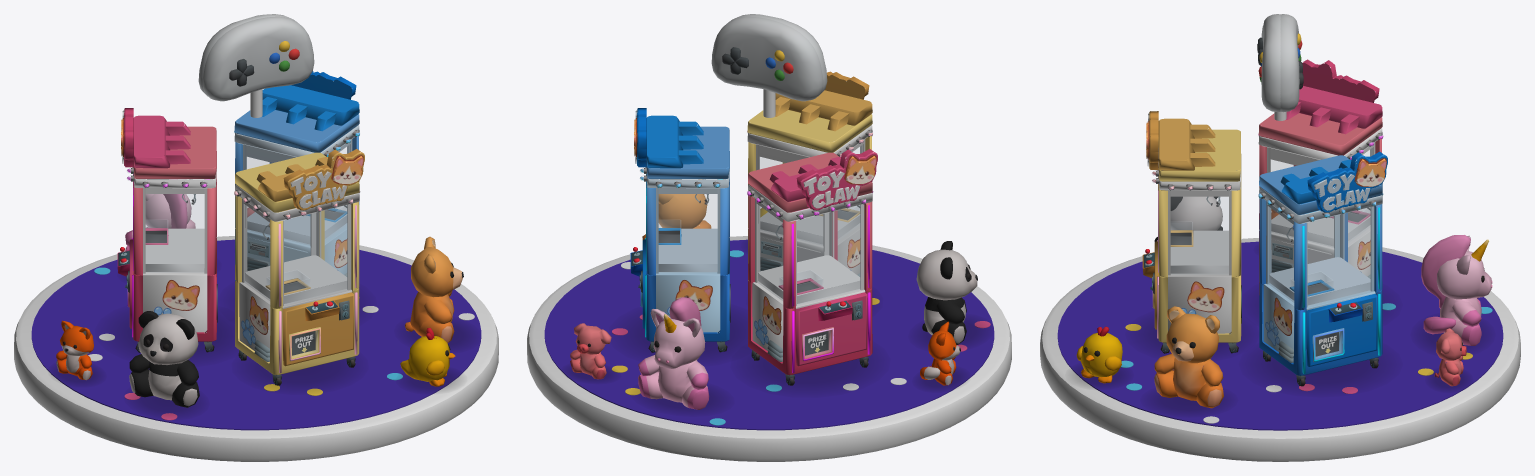
File: arcade.glb
3 renders of one model, left to right at view 1: azimuth 30°, elevation 25°; view 2: azimuth 150°, elevation 25°; view 3: azimuth 270°, elevation 25°, orthographic.
Visible parts, largest first — view 1: matte, glass, shadow, print, metal, glow; view 2: matte, glass, shadow, print, metal, glow; view 3: matte, glass, shadow, print, metal, glow.
Part boxes in pixels (x1,y1,x2,y2): matte: (14,14,498,461); glass: (127,131,360,357); shadow: (54,313,471,415); print: (121,118,363,352); metal: (118,130,358,361); glow: (127,131,360,373); matte: (527,14,1011,461); glass: (640,131,873,357); shadow: (568,314,984,412); print: (634,118,876,352); metal: (631,130,871,361); glow: (640,131,873,373); matte: (1040,14,1520,461); glass: (1152,134,1383,358); shadow: (1073,302,1485,413); print: (1146,121,1386,353); metal: (1143,133,1381,362); glow: (1152,134,1383,373).
Size of the model in its own units: 3.6 by 2.81 by 3.6.
6 materials, 1 textured.
